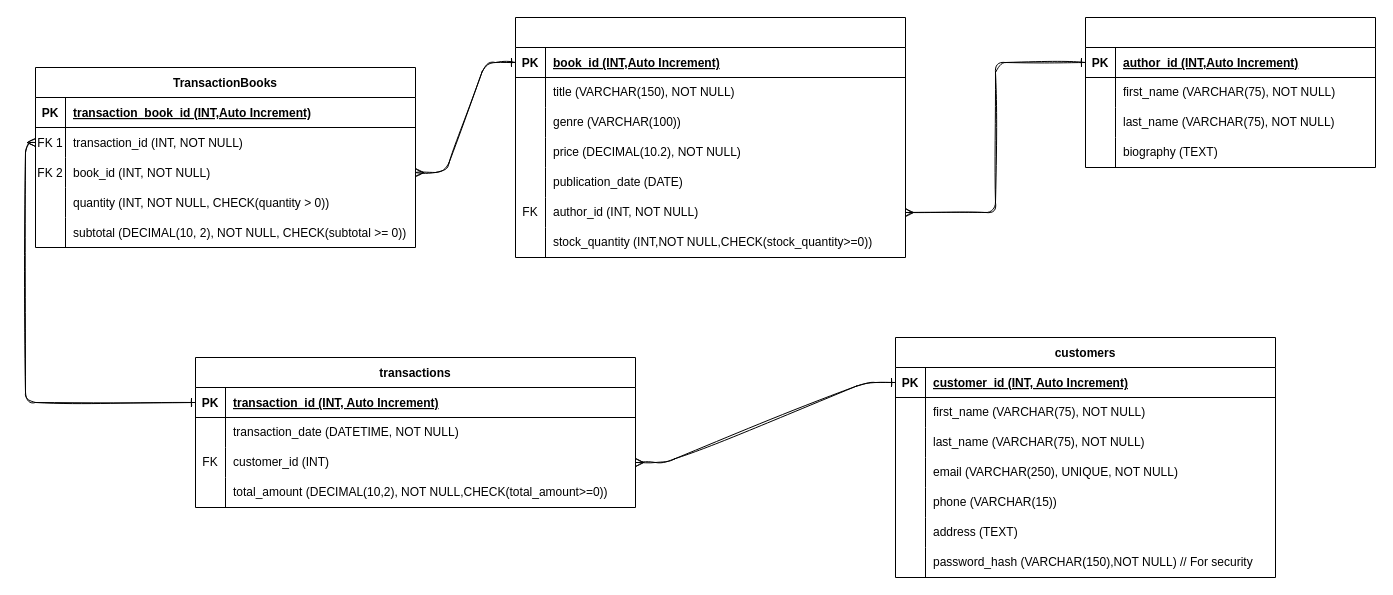
The diagram is 1393 pixels wide and 595 high, and some of its shapes have lost their labels. The box of each missing label's shape, as (x1, y1, x2, y2) in pixels:
Authors: (1084, 16, 1376, 168)
books: (514, 16, 906, 258)
